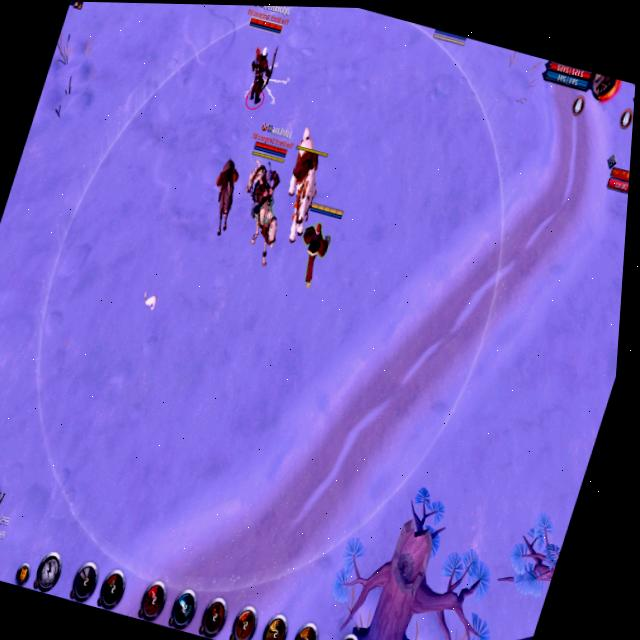red: (209, 113, 315, 281), (215, 5, 301, 117), (281, 194, 350, 298), (0, 308, 13, 423), (423, 27, 472, 52)
